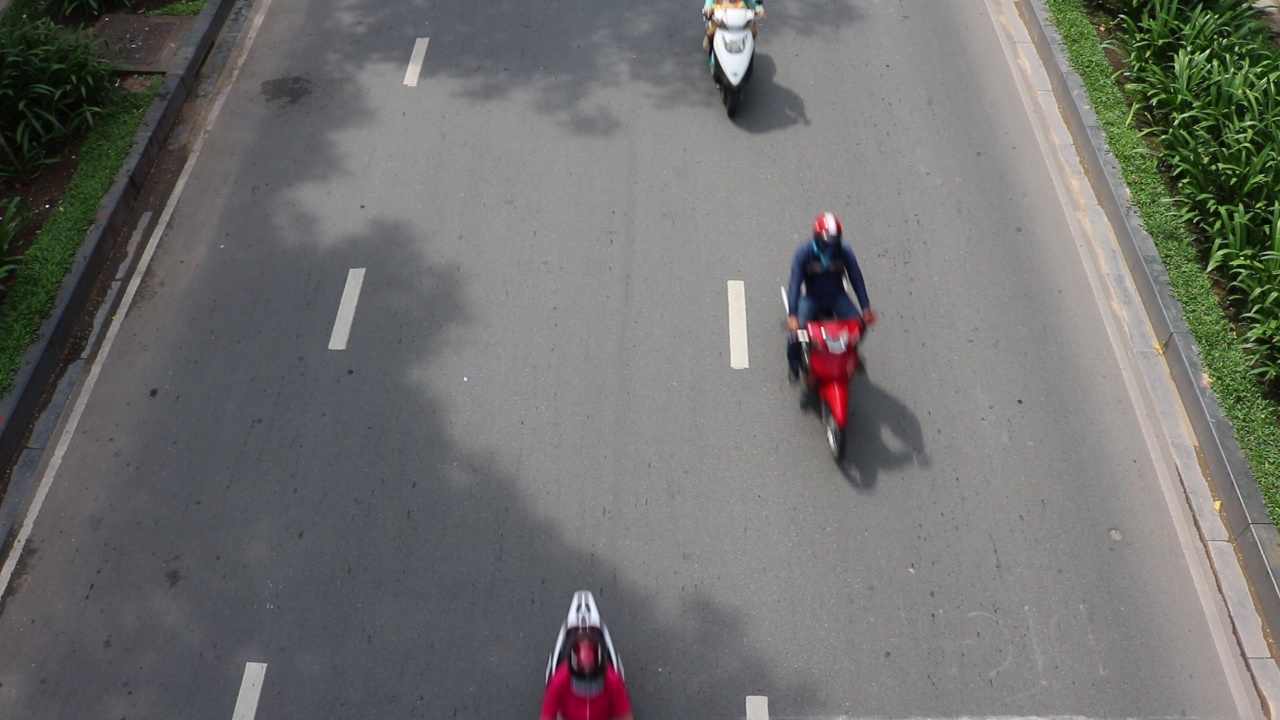motorcycle: (787, 310, 875, 469), (702, 3, 765, 116)
